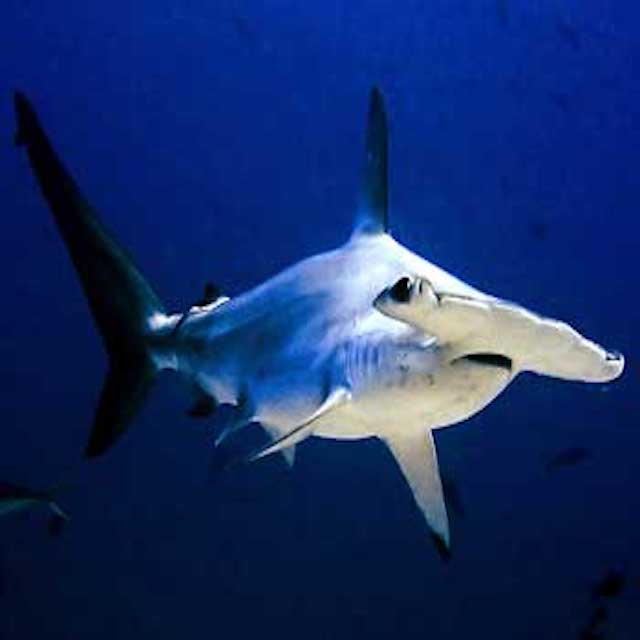hammerhead: (382, 255, 640, 420)
